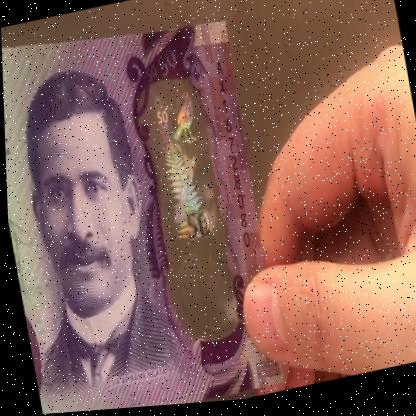50F: (144, 76, 230, 322)
